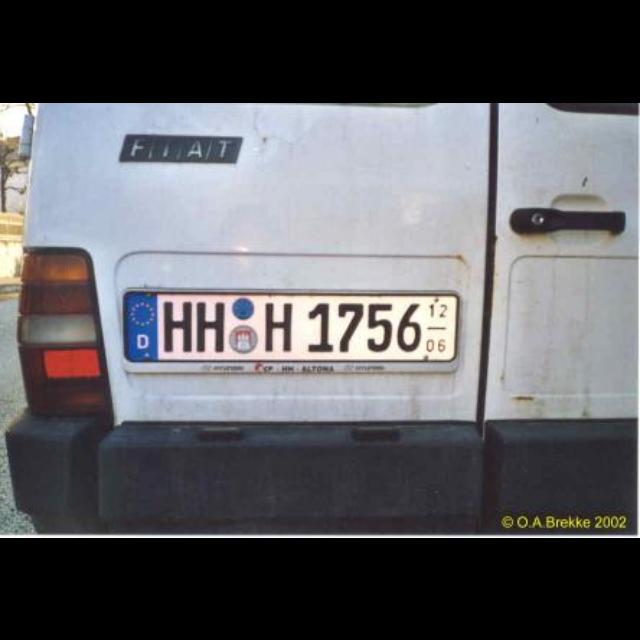d_license_plate: (121, 287, 455, 359)
